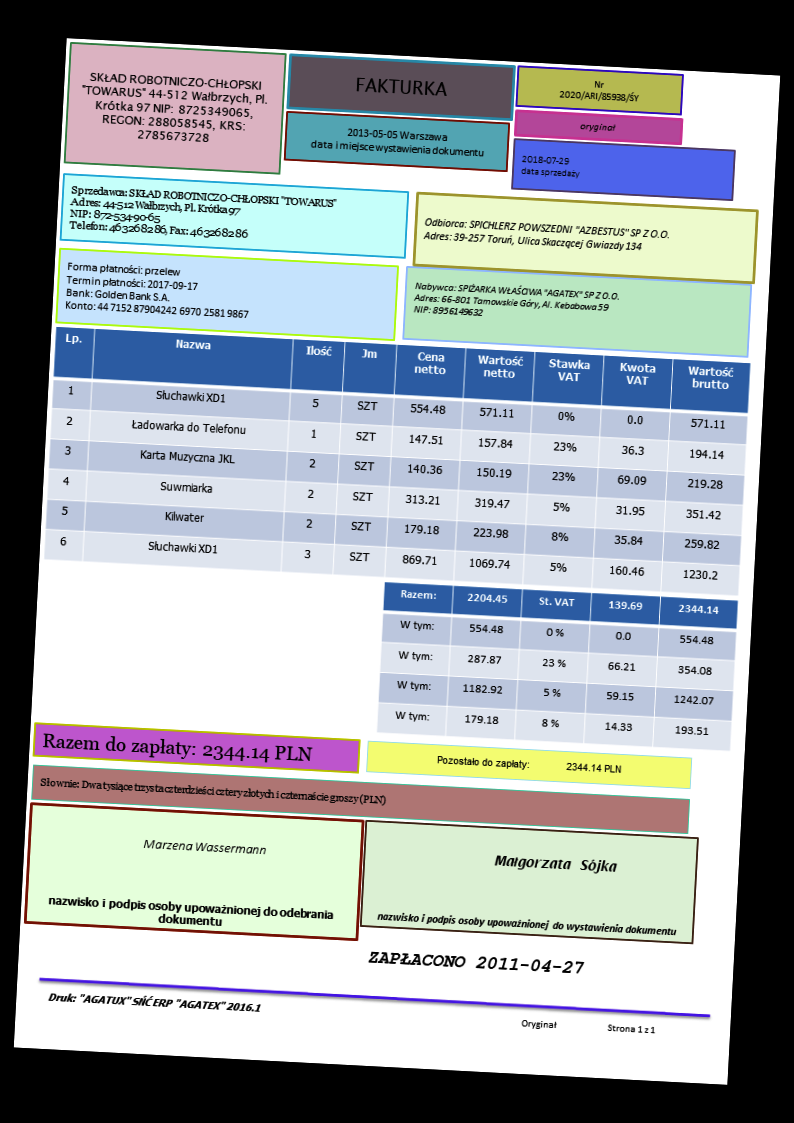Table: (42, 325, 753, 599), (375, 580, 739, 753)
TextBox: (66, 182, 339, 248), (78, 69, 271, 150), (38, 773, 388, 810), (44, 891, 337, 935), (40, 724, 315, 768), (62, 258, 252, 321), (420, 213, 672, 258), (410, 277, 622, 328), (374, 908, 679, 939), (366, 947, 585, 978), (309, 124, 486, 159), (47, 988, 263, 1015), (433, 750, 625, 778), (517, 1014, 660, 1039), (139, 834, 270, 859), (492, 850, 619, 875), (557, 74, 642, 106), (352, 73, 451, 100), (519, 151, 581, 181), (577, 118, 617, 135)
